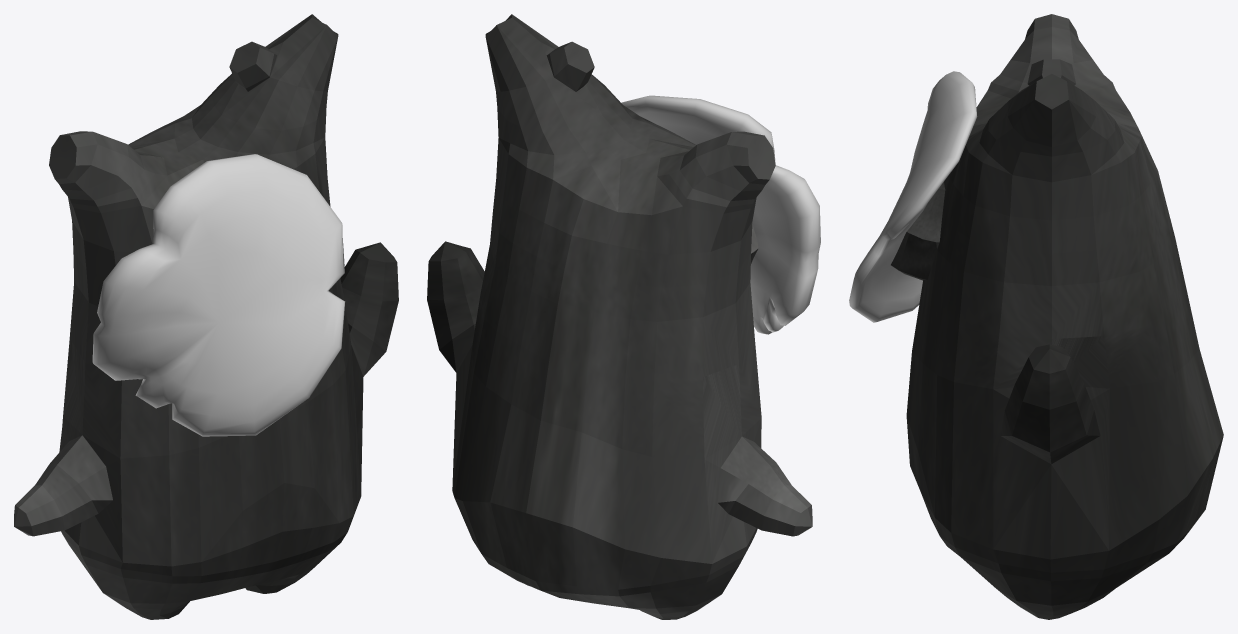
Rendered from frame_0003.obj.
3 renders of one model, left to right at view 1: azimuth 30°, elevation 25°; view 2: azimuth 150°, elevation 25°; view 3: azimuth 270°, elevation 25°, orthographic.
Visible parts, largest first — view 1: korok, leaf; view 2: korok, leaf; view 3: korok, leaf, nose.
Boxes of the visible parts, x1,y1,x2,y2 form: korok: (14, 14, 398, 619); leaf: (92, 154, 345, 436); korok: (427, 14, 812, 619); leaf: (621, 95, 820, 334); korok: (906, 14, 1223, 619); leaf: (849, 71, 977, 322); nose: (891, 182, 945, 280).
Bounding box in the file's own units: 1.63 × 2.3 × 1.38.
